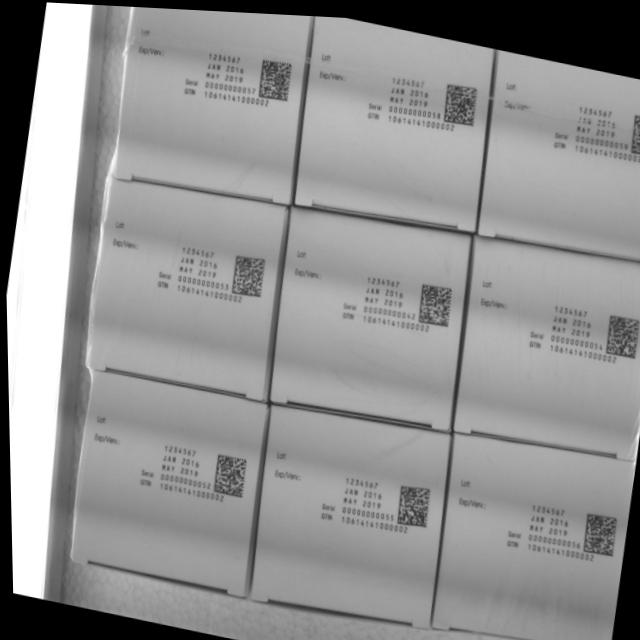datamatrix: (257, 52, 298, 103), (441, 77, 482, 128), (228, 248, 269, 299), (579, 503, 620, 554), (210, 448, 251, 499), (414, 276, 455, 326), (393, 477, 433, 528), (602, 306, 640, 357), (627, 103, 640, 153)
